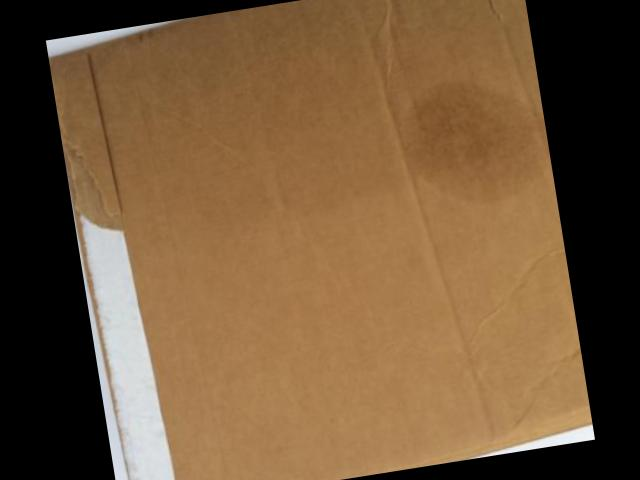cardboard paper: (49, 0, 592, 480)
